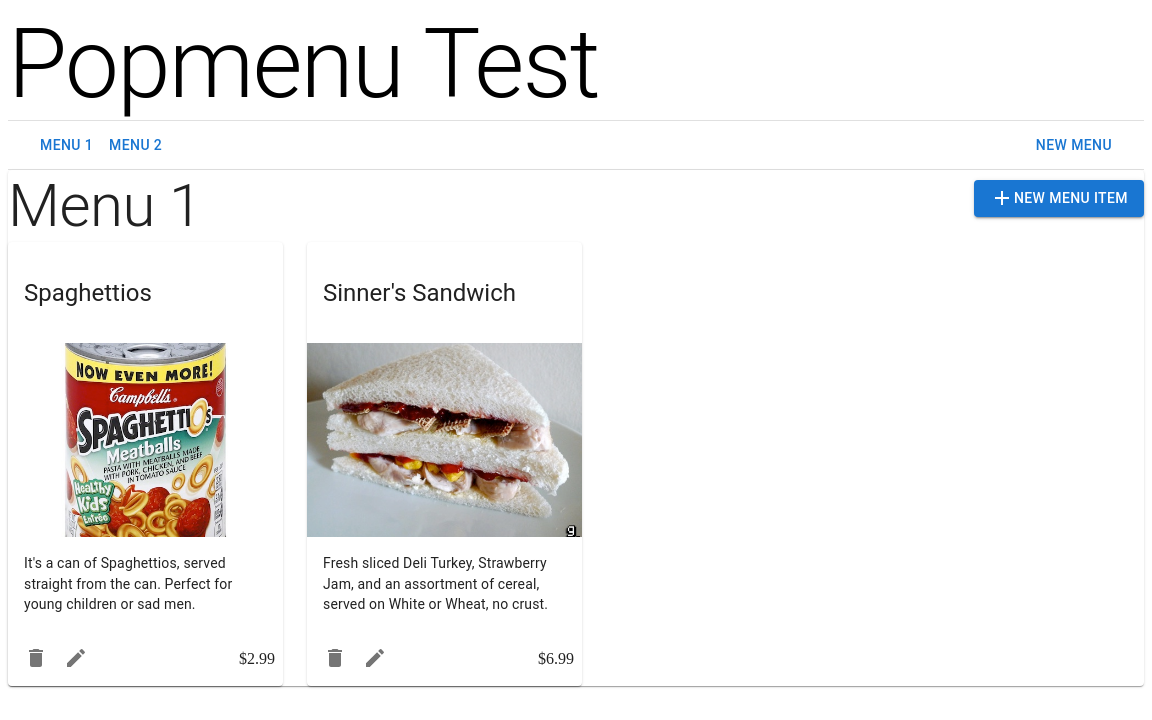
Test: Edit a Menu Item
Note: Rely on an existing element for now
Click the button with id "edit-1" at (76, 658), box x1=56 y1=638 x2=96 y2=678
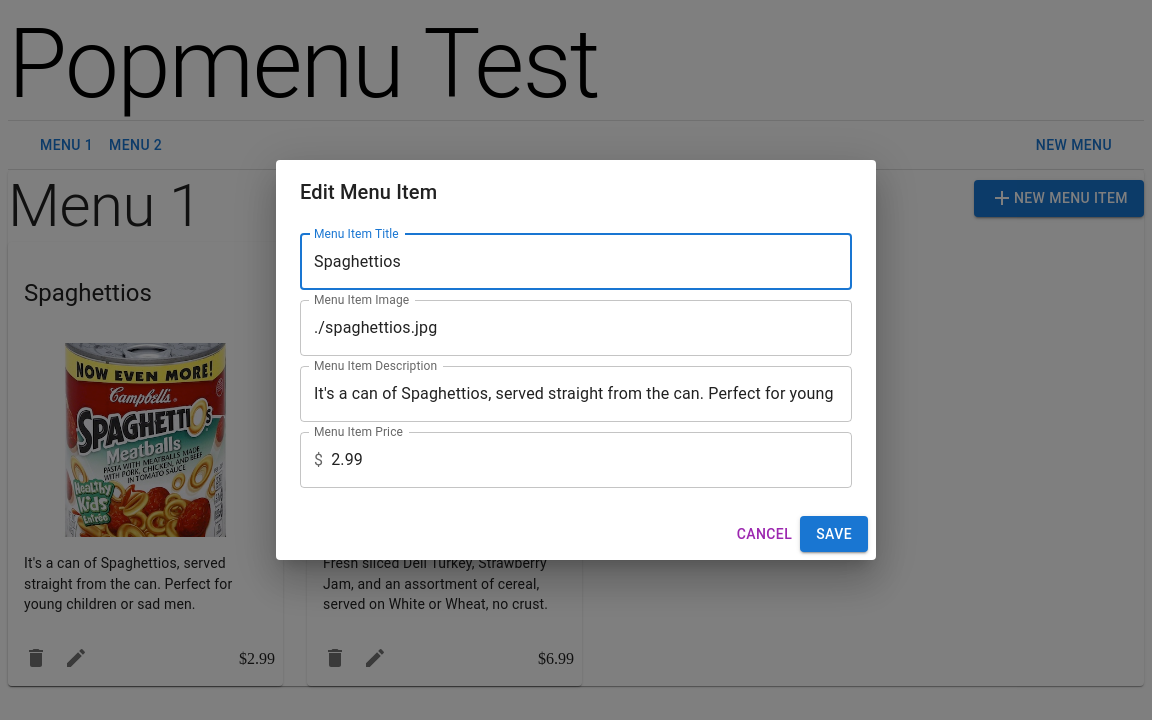
Replace the text in the field labelled "Menu Item Title" with "ChangeSpaghettiosTitle" at (576, 262), box x1=300 y1=234 x2=852 y2=290
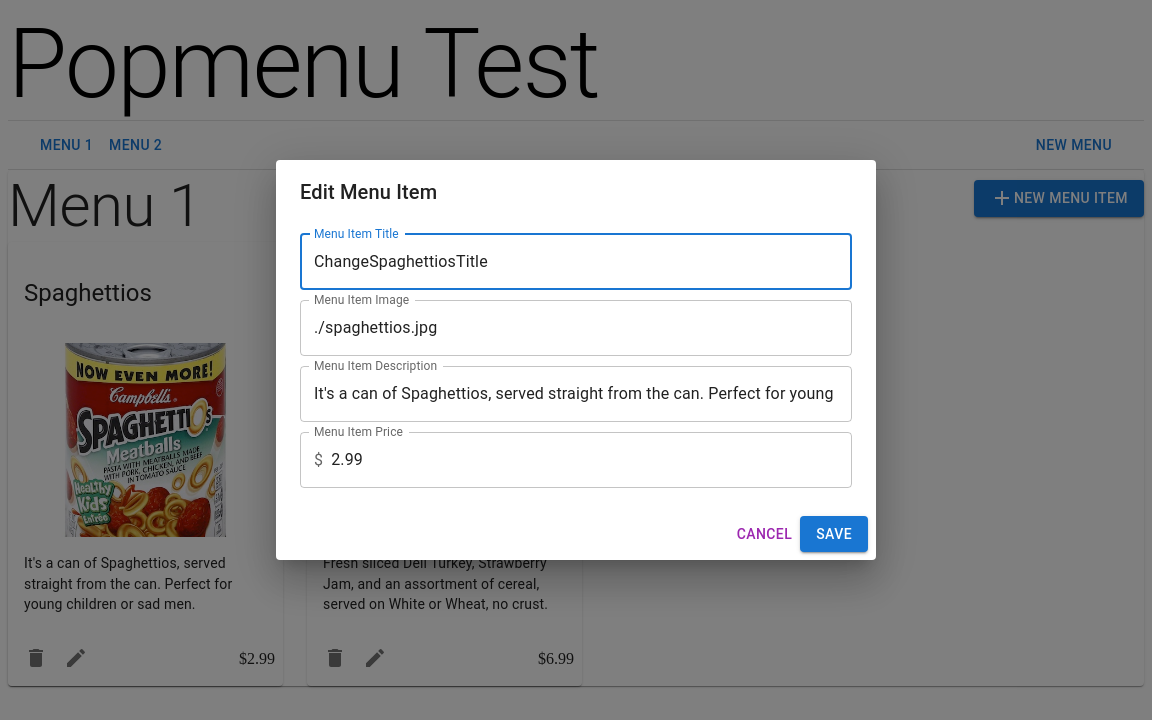
Replace the text in the field labelled "Menu Item Image" with "ChangeSpaghettiosImage" at (576, 328), box x1=300 y1=300 x2=852 y2=356
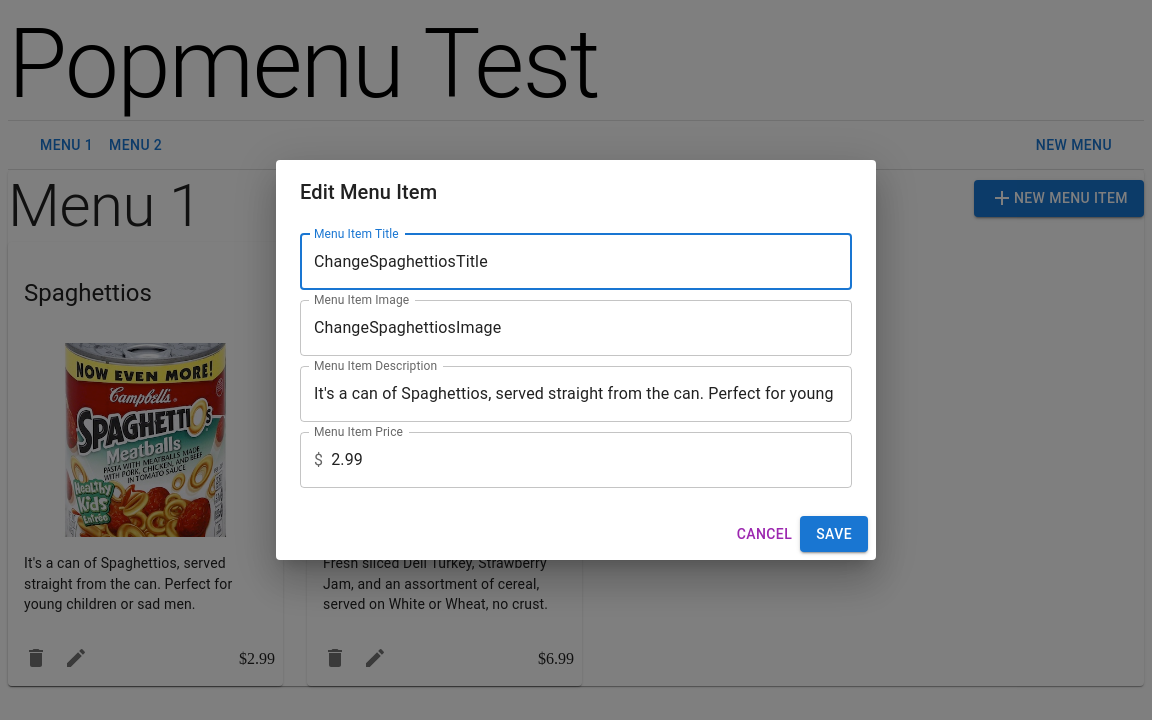
Replace the text in the field labelled "Menu Item Description" with "ChangeSpaghettiosDesc" at (576, 394), box x1=300 y1=366 x2=852 y2=422
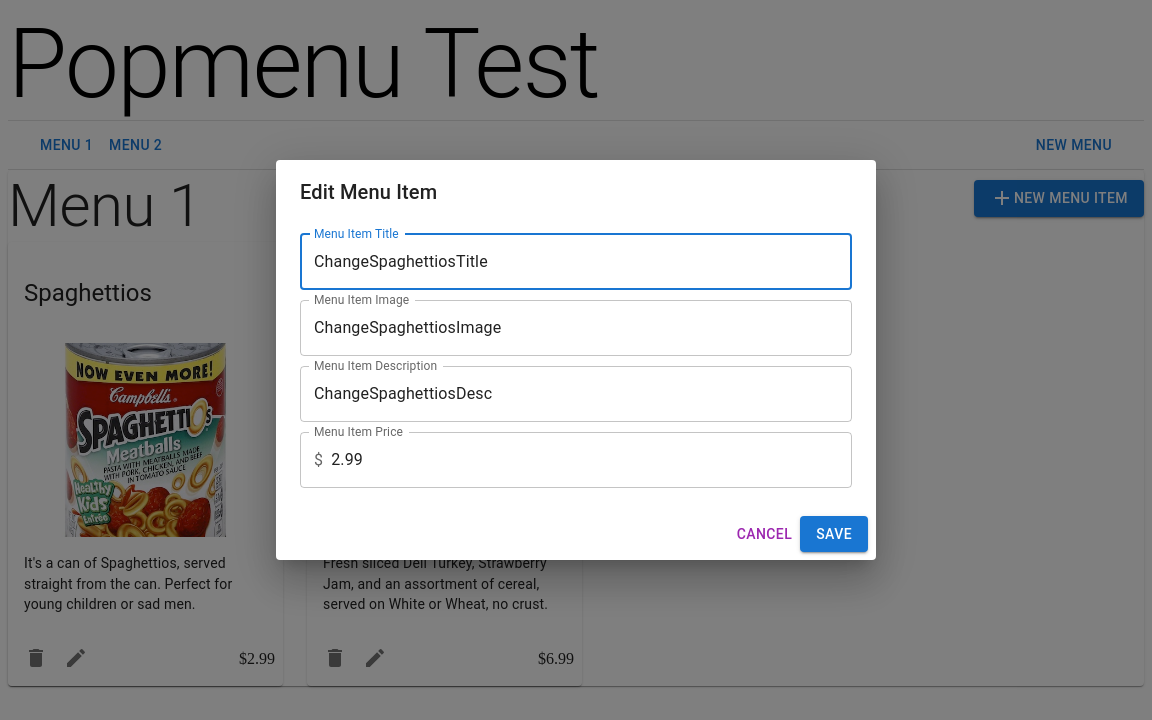
Replace the text in the field labelled "Menu Item Price" with "123" at (592, 460), box x1=331 y1=432 x2=852 y2=488
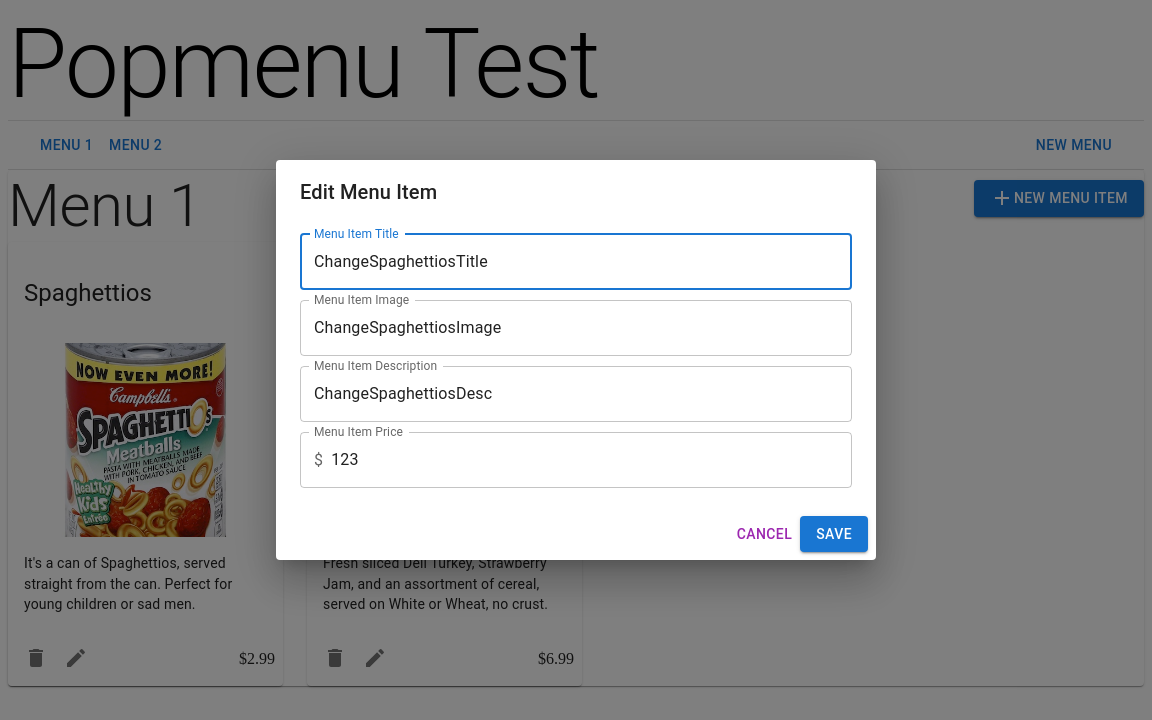
Click the button with id "edit-save-1" at (834, 534), box x1=800 y1=516 x2=868 y2=552
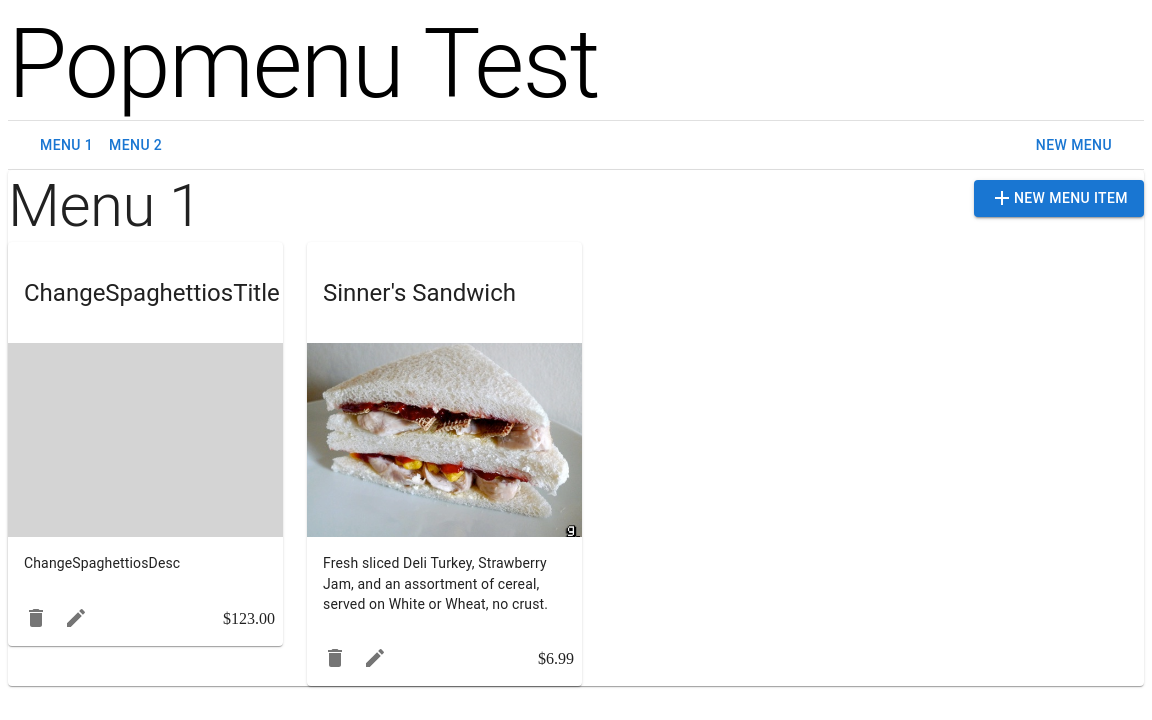
expect the text with id "menu-item-title-1" reads "ChangeSpaghettiosTitle": met, box x1=24 y1=279 x2=280 y2=307
expect the text with id "menu-item-desc-1" reads "ChangeSpaghettiosDesc": met, box x1=24 y1=556 x2=180 y2=572
expect the text with id "menu-item-price-1" reads "$123.00": met, box x1=223 y1=610 x2=275 y2=626
